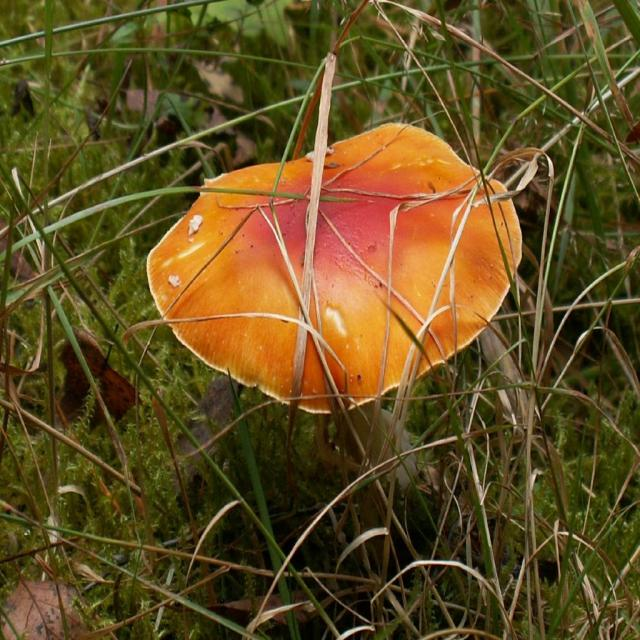Mushroom: (149, 122, 524, 486)
